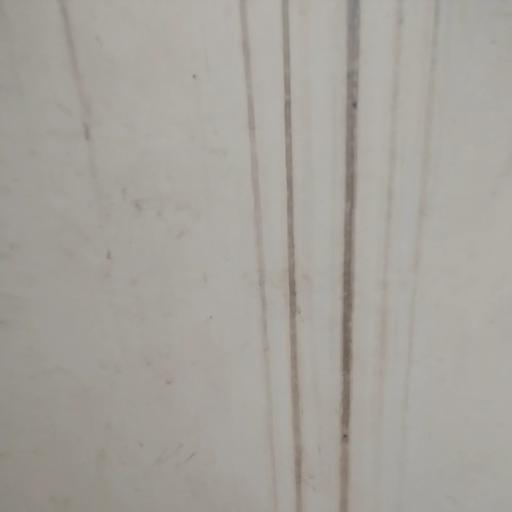stain: (166, 9, 499, 512)
